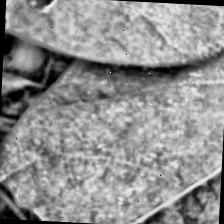ALS: (2, 0, 224, 70)
